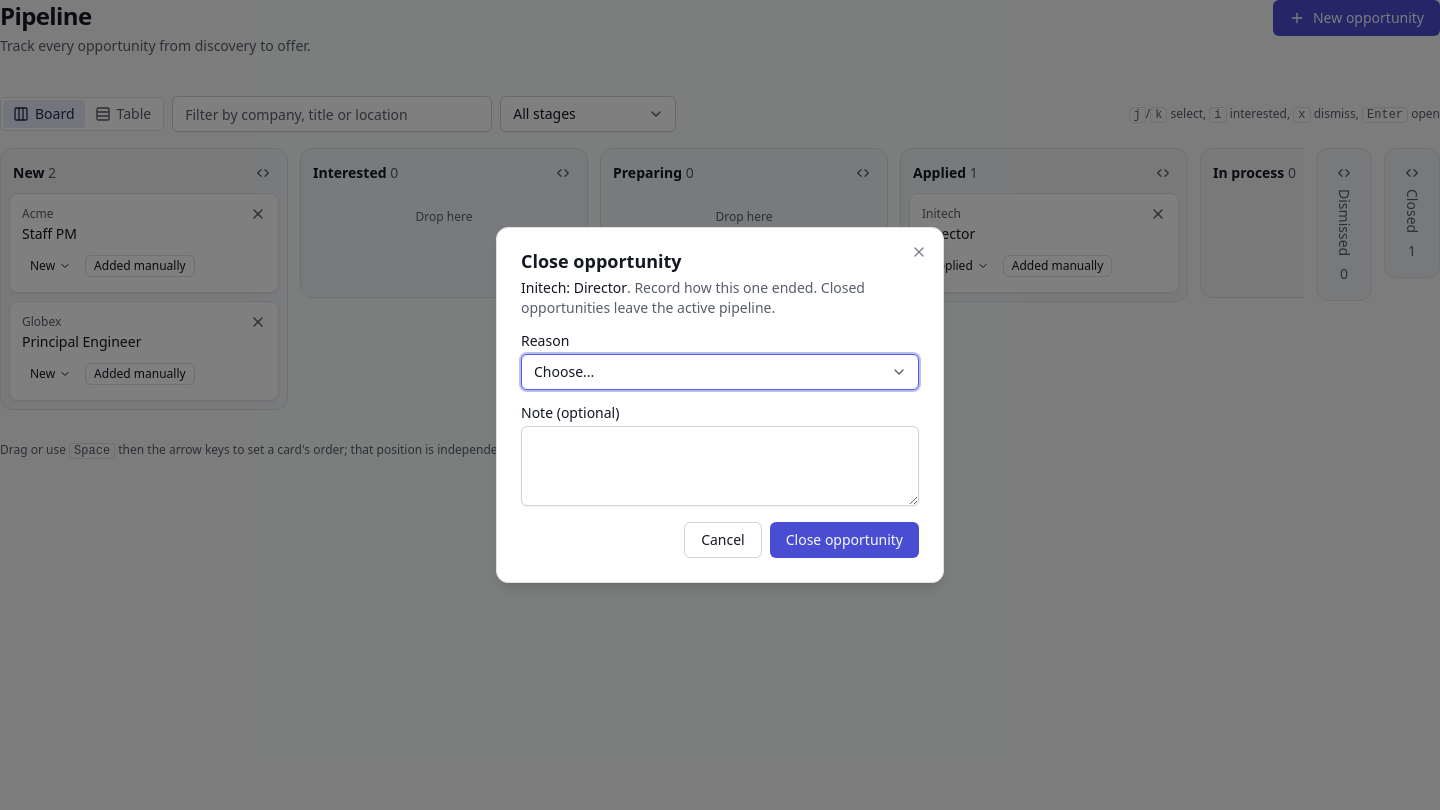
Test: Collapsible columns › opens the reason dialogs when dropped on the collapsed closed and dismissed rails
This screenshot has width=1440, height=810.
Check: the element "Acme Staff PM New Added manually" is shown, box [9, 193, 279, 293]
Click the button "Cancel": (723,540) [684, 522, 762, 558]
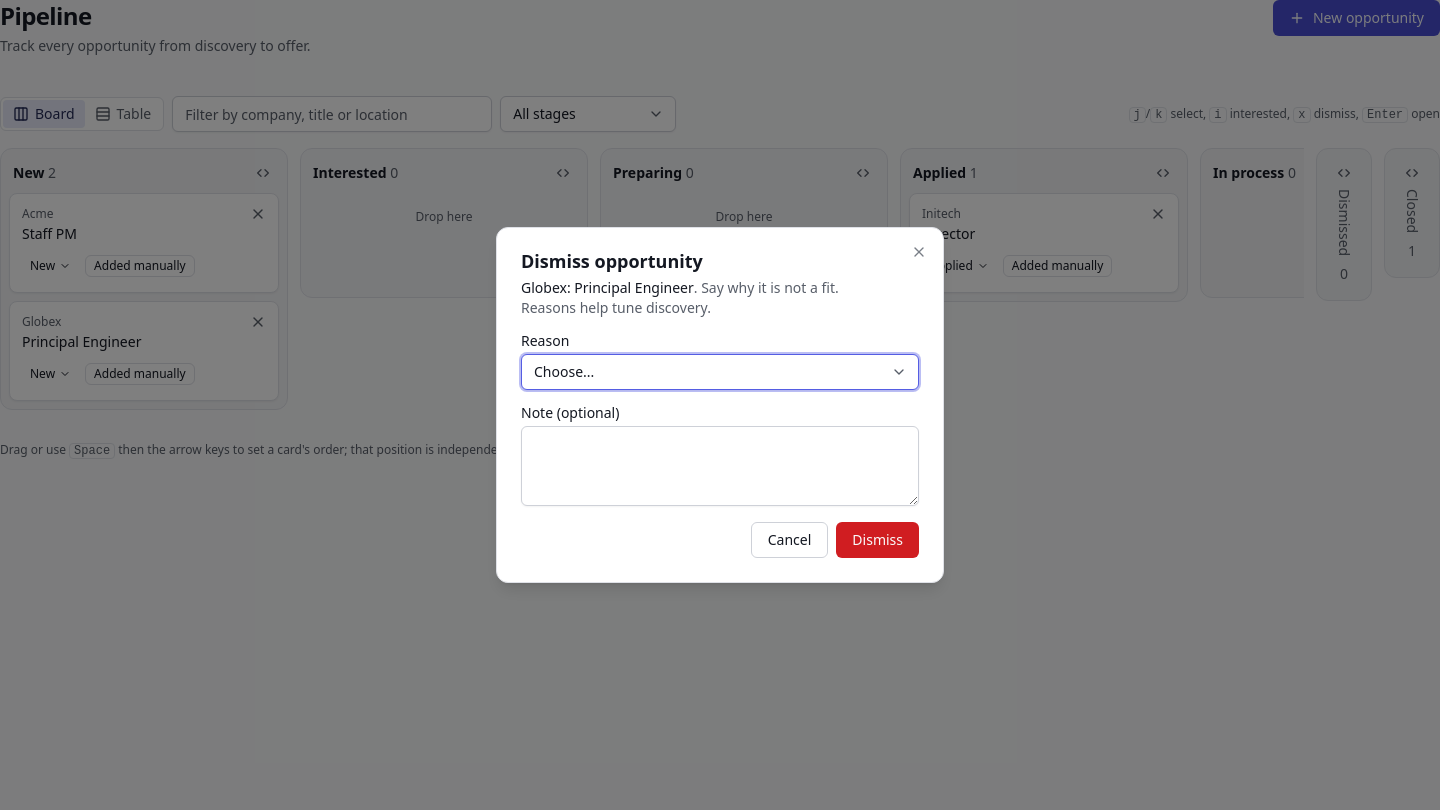
Check: the dialog "Dismiss opportunity" is shown, box [496, 227, 944, 583]
